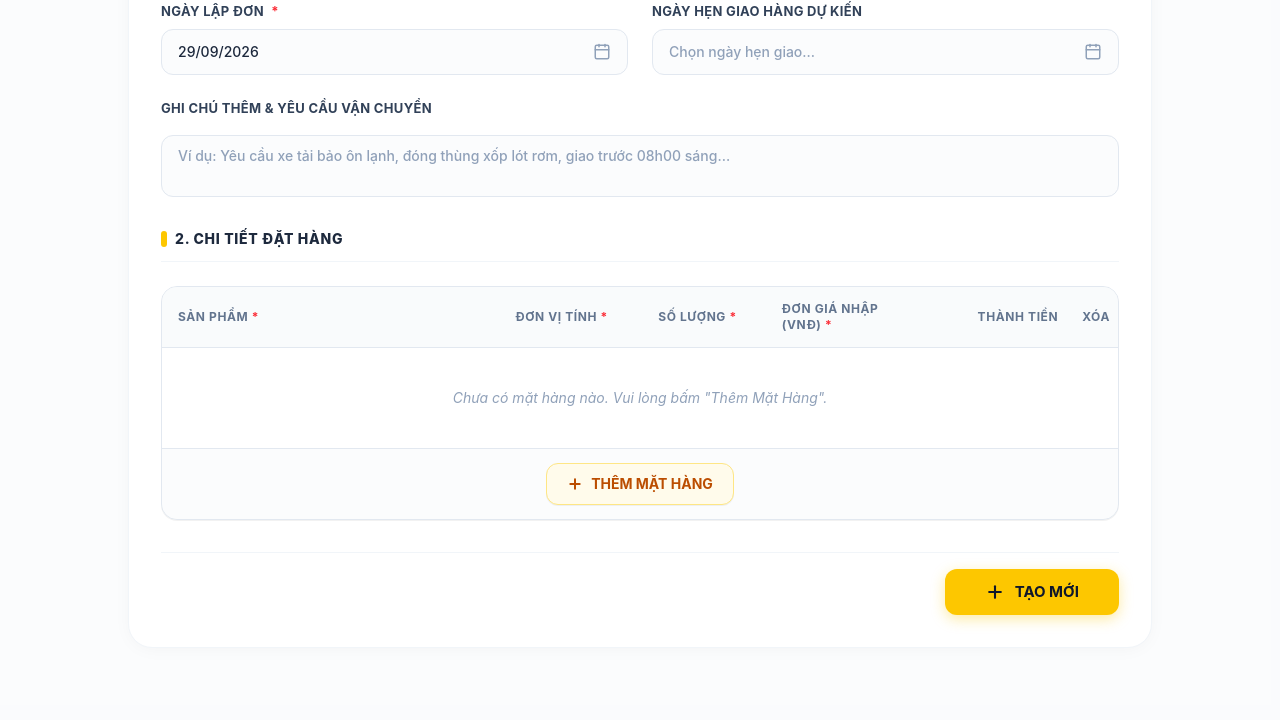
Scenario: Module 09 - PurchaseOrderForm Component › TC03 - Báo lỗi validation khi submit form mà chưa chọn nhà cung cấp hoặc chưa có mặt hàng
(page scrolled)
Click the button "TẠO MỚI" at point(1032, 592), box [945,568,1119,615]
(page scrolled)
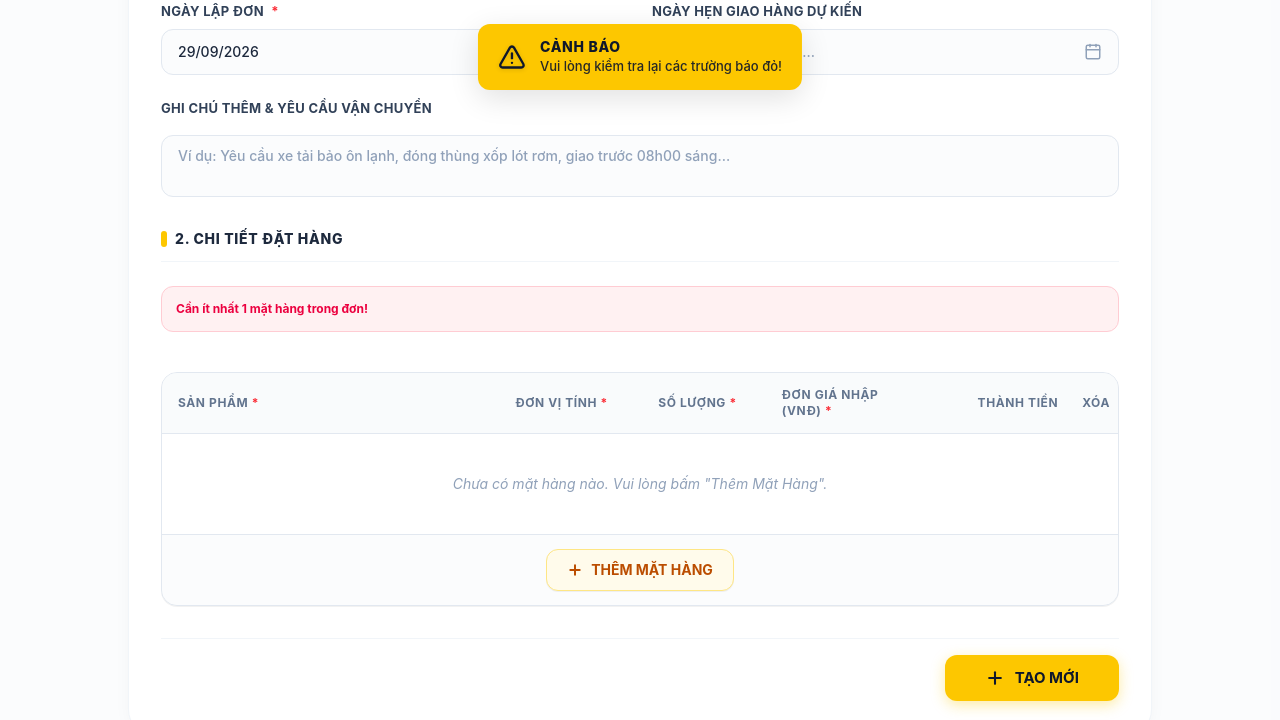
Expected: the text "Cần ít nhất 1 mặt hàng trong đơn!" is shown, [161,286,1119,332]
